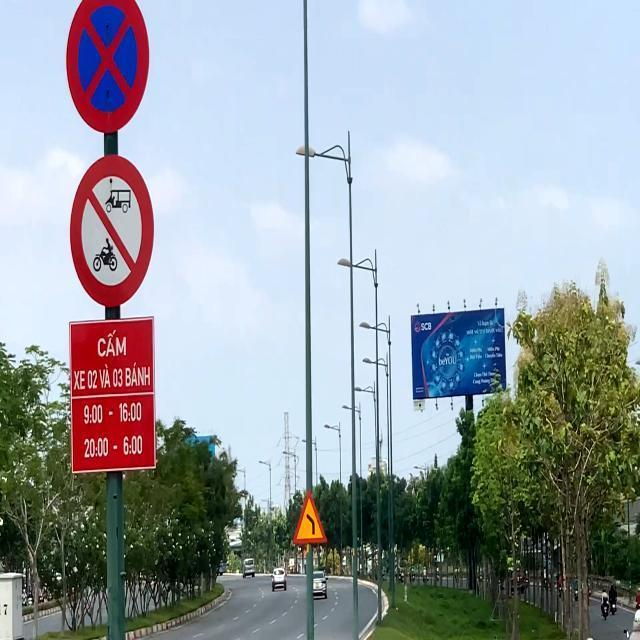130-cam-dung-va-do-xe: (66, 0, 150, 130)
201-cho-ngoat-nguy-hiem: (292, 492, 328, 544)
